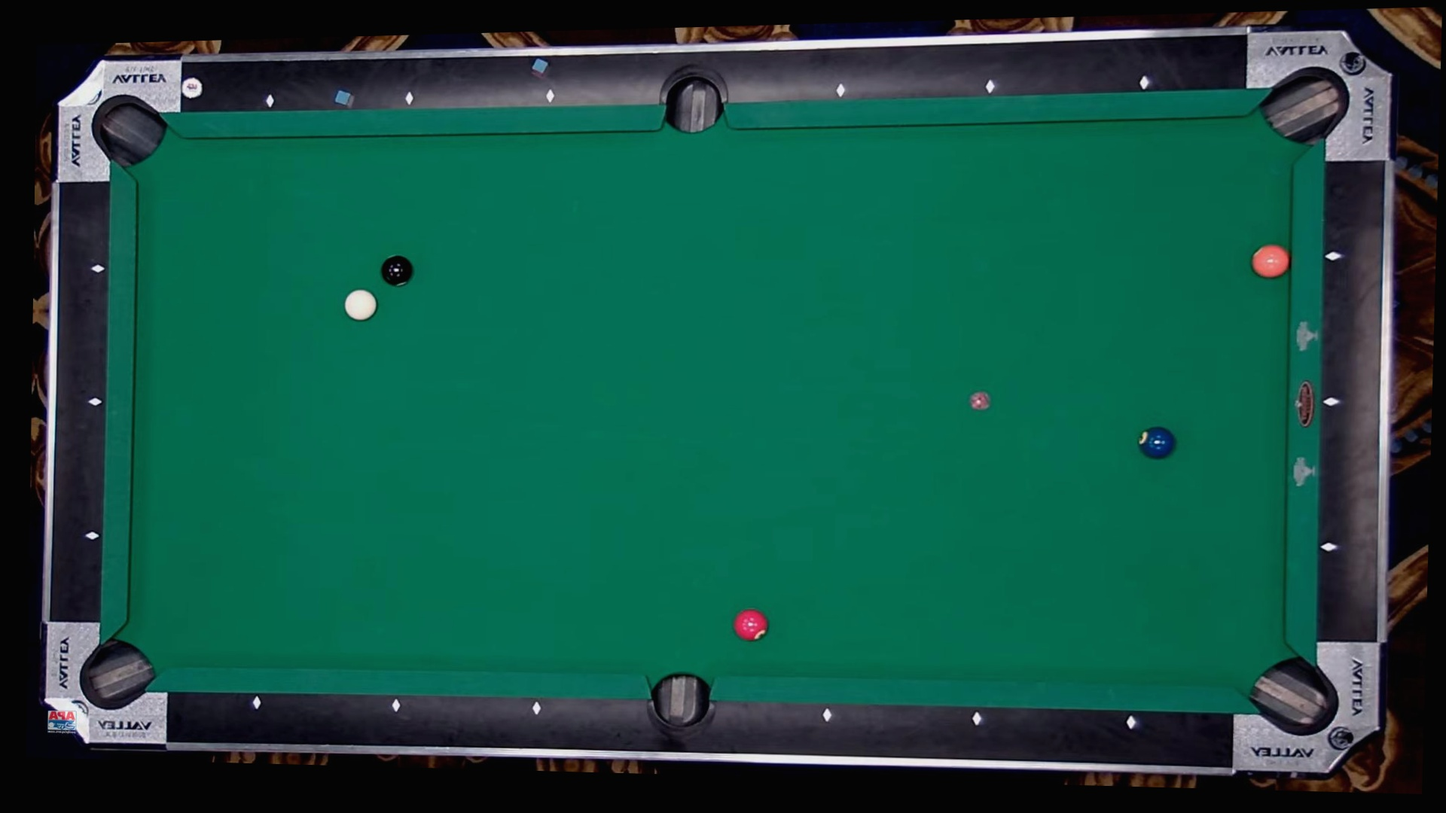Black: (380, 254, 415, 288)
Cue: (343, 287, 378, 323)
Solid: (1325, 541, 1336, 552), (1327, 249, 1338, 260), (545, 90, 556, 101), (1126, 717, 1137, 728), (1327, 397, 1338, 407), (986, 82, 996, 93), (835, 85, 845, 96), (405, 93, 415, 104), (266, 96, 277, 106), (87, 531, 98, 541), (531, 704, 542, 714), (824, 709, 835, 719), (1138, 79, 1148, 89), (92, 265, 102, 275), (91, 397, 101, 407), (251, 698, 261, 708), (392, 701, 402, 711), (973, 714, 983, 724)
Striped: (1138, 426, 1175, 460), (1252, 244, 1288, 278), (733, 607, 768, 641)
